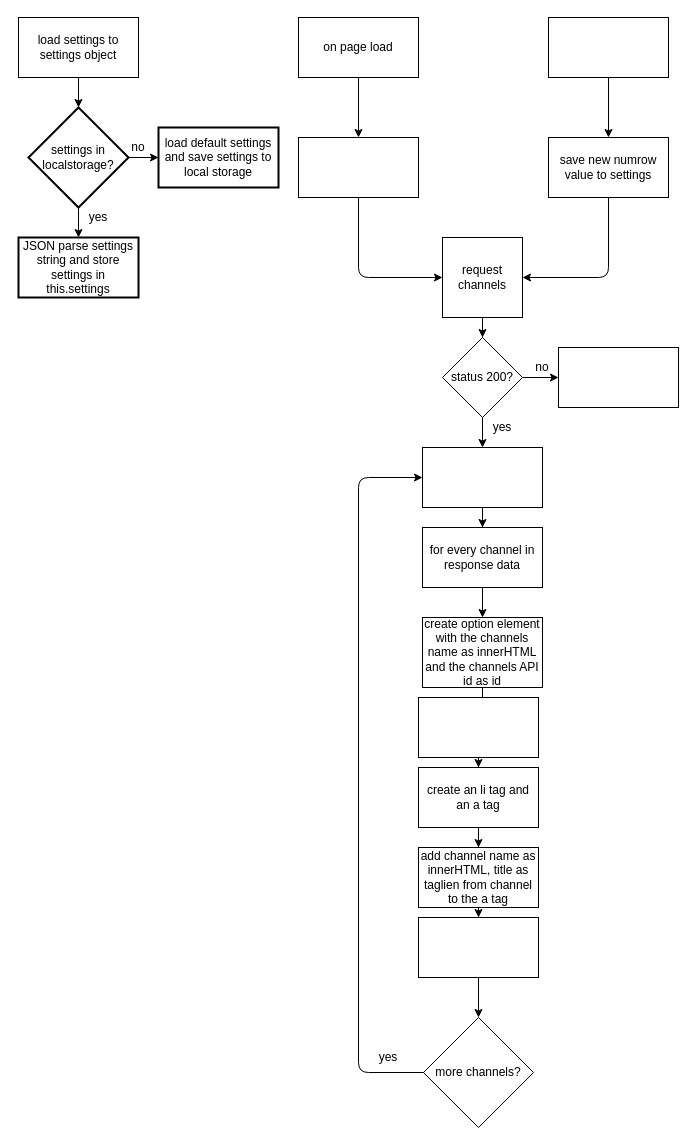
The diagram is 696 pixels wide and 1145 high, and some of its shapes have lost their labels. Here are the shapes that lost their labels. From the top down, the centre of each, then its label:
pixel 608 47: on numrows change
pixel 358 167: set saved value of numRows to html element with id numrows
pixel 618 377: do nothing
pixel 482 477: parse response data as JSON
pixel 478 727: append the option to select tag with id "playchannel"
pixel 478 947: append the a tago to the li tag and the li tag to ul tag with id "mainnavlist"
